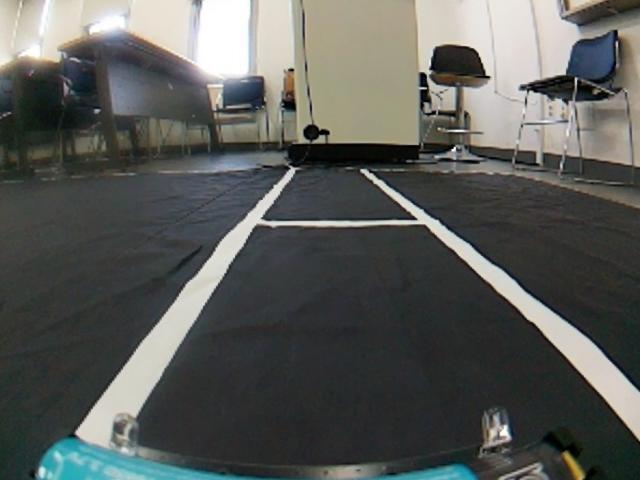straight: (46, 178, 640, 479)
